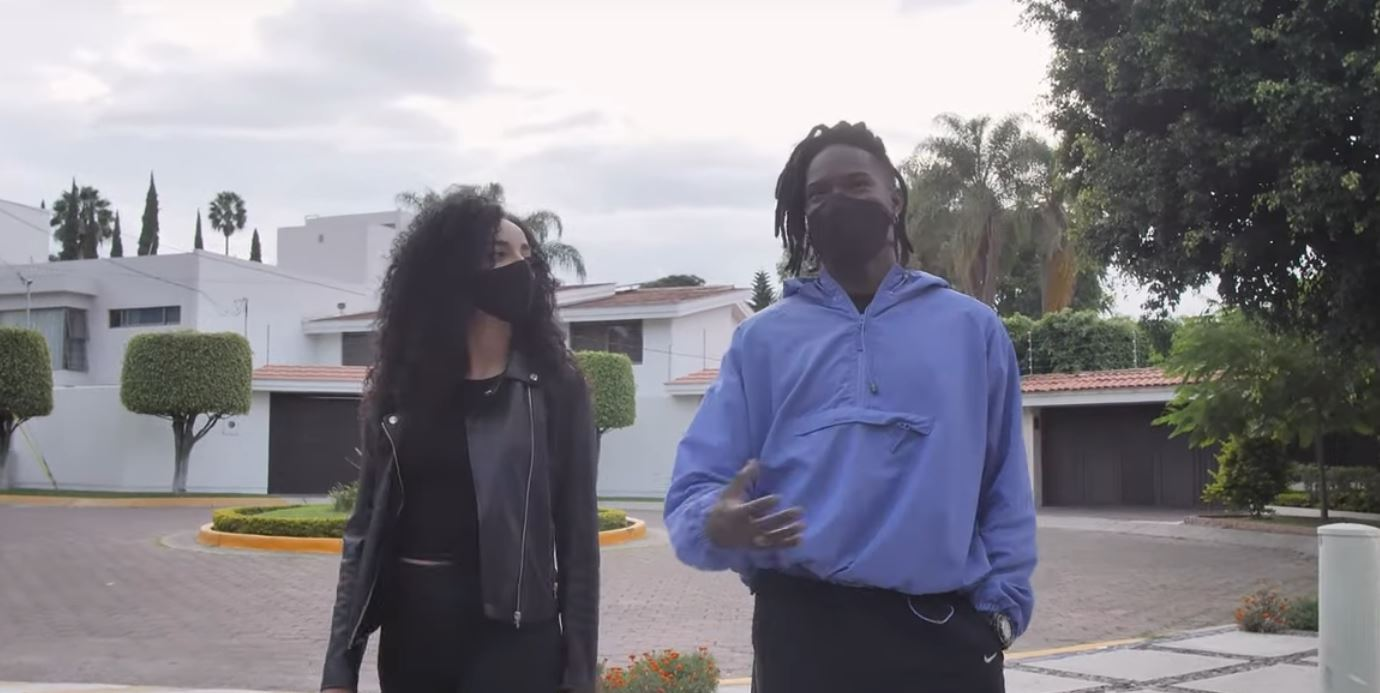with_mask: (802, 155, 888, 243), (475, 224, 536, 304)
